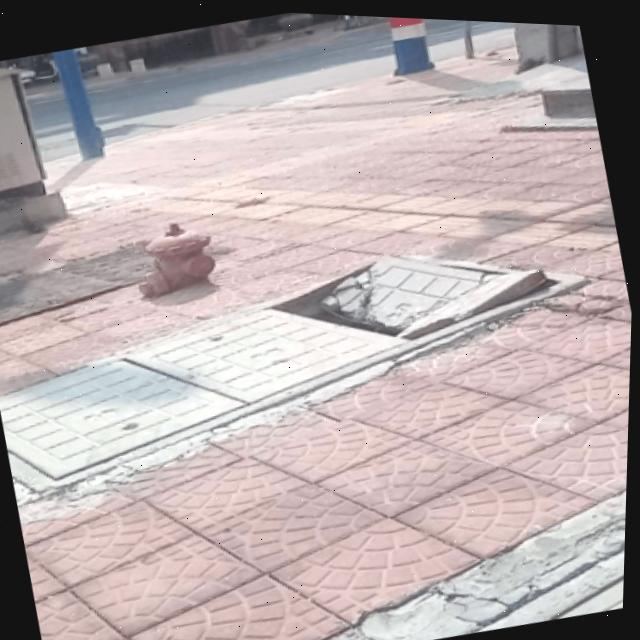manhole: (262, 193, 594, 374)
